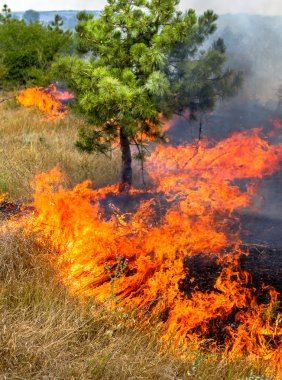fire: (22, 152, 132, 306), (170, 129, 268, 199), (215, 251, 272, 352), (138, 211, 189, 317), (15, 72, 69, 119)
